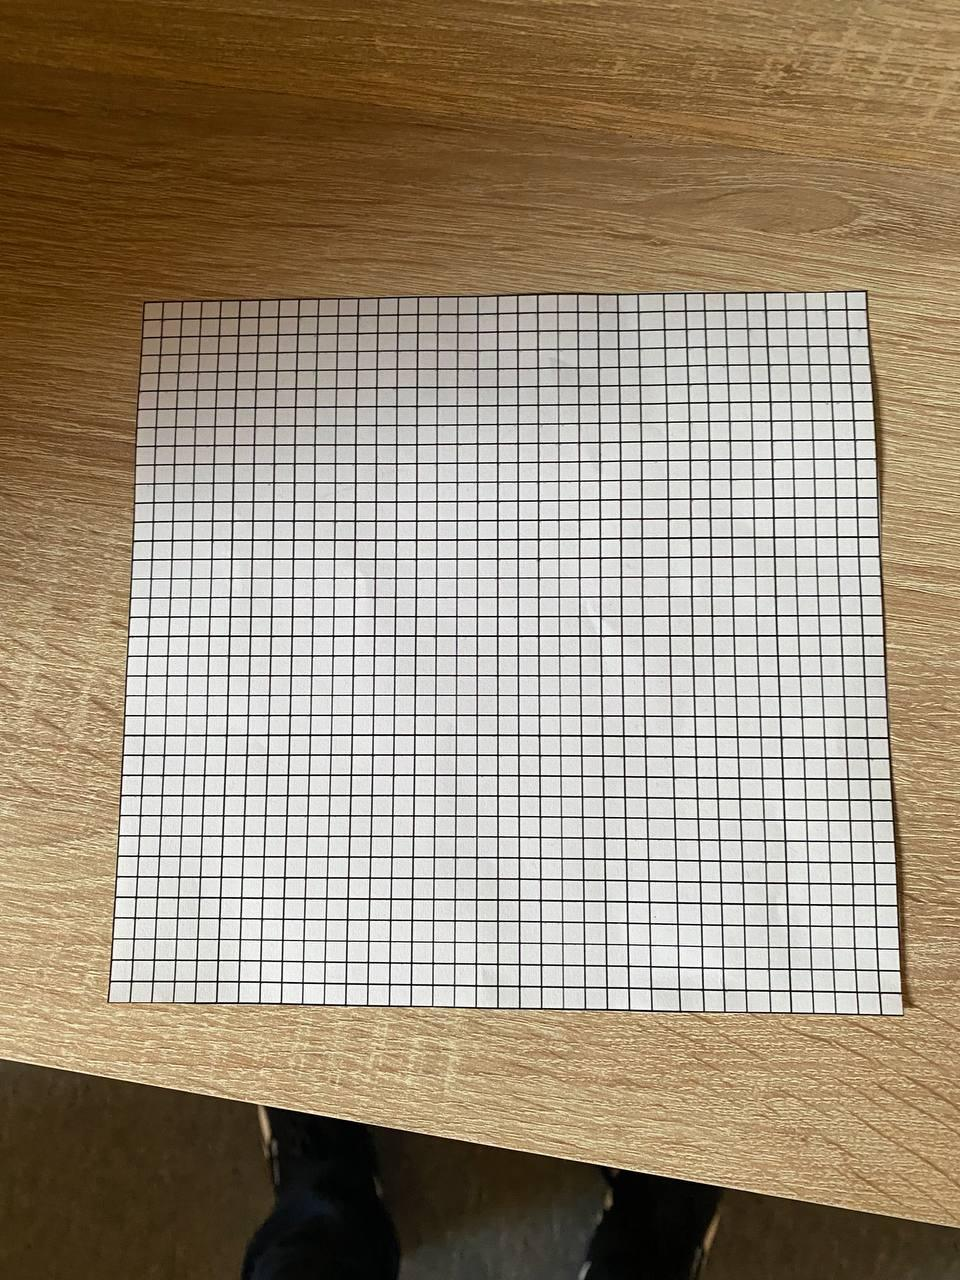grid: (91, 285, 914, 1033)
